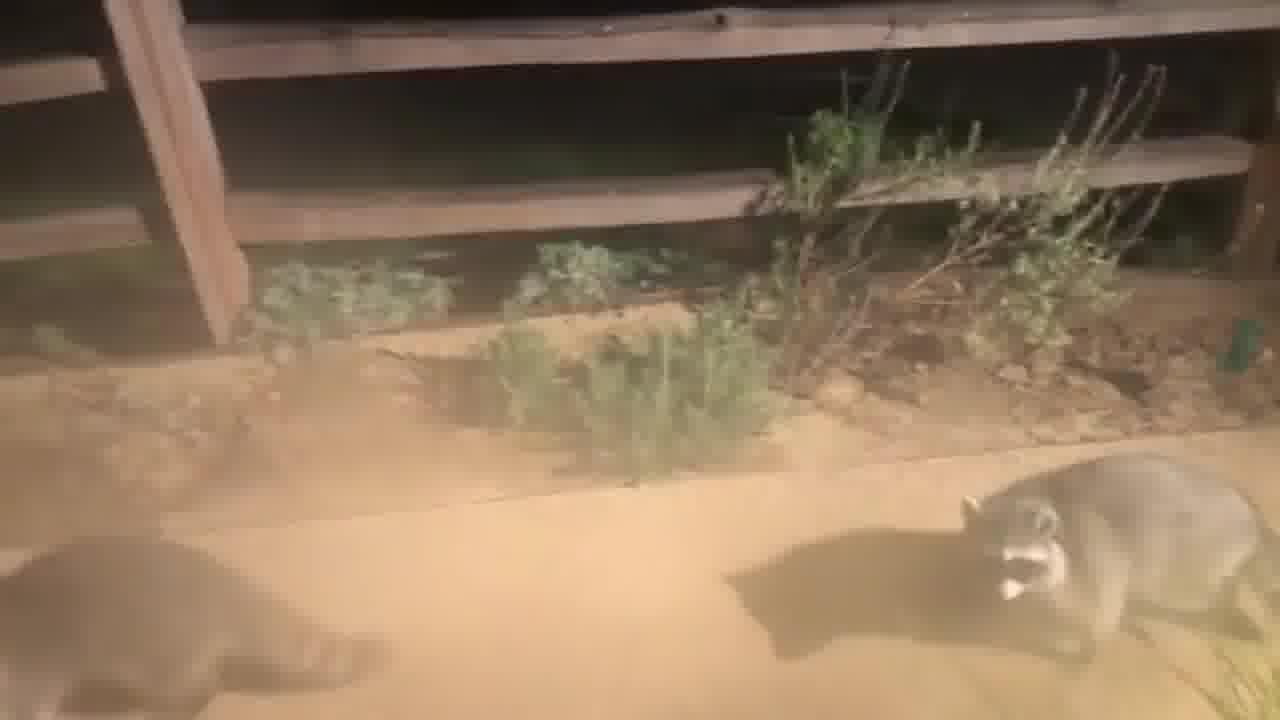raccoon: (941, 448, 1280, 684)
